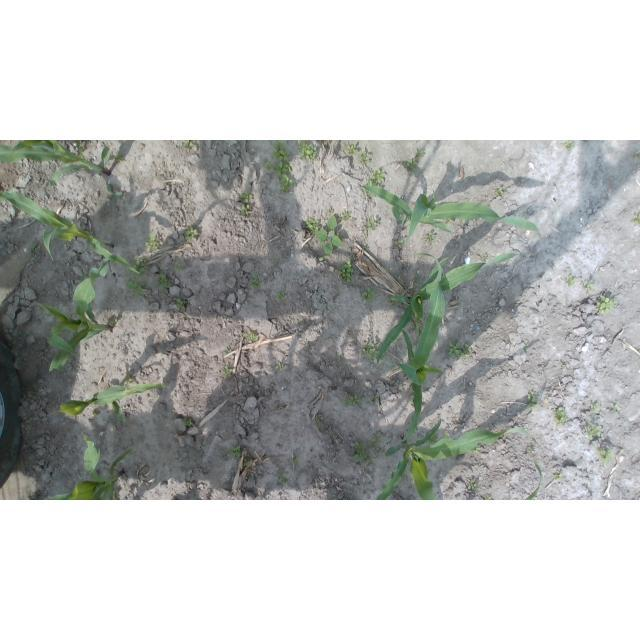Maize: (376, 252, 520, 363), (372, 419, 544, 500), (0, 190, 140, 273), (352, 185, 541, 246), (386, 252, 446, 444), (35, 258, 112, 371), (0, 140, 112, 190), (47, 435, 133, 500), (60, 382, 166, 422), (509, 456, 543, 501)
Weeds: (263, 140, 293, 194), (314, 216, 342, 256), (350, 434, 383, 463), (129, 256, 150, 280), (448, 341, 472, 359), (299, 140, 318, 162), (595, 296, 617, 314), (125, 280, 147, 298), (339, 260, 355, 283), (406, 148, 424, 168), (553, 407, 570, 428), (155, 273, 172, 292), (366, 169, 386, 185), (586, 422, 603, 440), (106, 184, 123, 202), (362, 341, 379, 359), (597, 448, 614, 464), (144, 234, 160, 251), (184, 226, 199, 242), (526, 391, 539, 409), (343, 395, 362, 407), (363, 219, 378, 234), (584, 280, 597, 295), (358, 150, 371, 165), (362, 288, 375, 302), (240, 191, 254, 204), (306, 217, 318, 231), (422, 232, 436, 244), (561, 141, 576, 152), (221, 366, 233, 379), (176, 298, 187, 312), (249, 276, 259, 291), (29, 243, 39, 258), (566, 275, 577, 287), (231, 446, 242, 458), (113, 153, 124, 164), (428, 432, 438, 444), (590, 403, 600, 415), (467, 480, 477, 492), (245, 333, 258, 342), (347, 145, 357, 156), (471, 444, 481, 455), (241, 204, 250, 216), (181, 141, 193, 150), (631, 213, 640, 224), (124, 375, 133, 386), (277, 474, 288, 483), (290, 455, 299, 466), (341, 211, 351, 220), (553, 471, 563, 480), (184, 417, 193, 427), (278, 292, 287, 301), (395, 240, 404, 249), (387, 298, 395, 308), (276, 362, 284, 372), (174, 262, 183, 270), (370, 396, 379, 404), (314, 420, 322, 429), (363, 189, 373, 196), (496, 187, 504, 195), (110, 318, 118, 326), (413, 274, 420, 282), (447, 217, 455, 223), (443, 430, 449, 438), (272, 259, 279, 265), (316, 258, 324, 263), (560, 363, 566, 369), (528, 446, 534, 452), (338, 355, 344, 361), (299, 319, 305, 325), (92, 409, 98, 415), (327, 209, 334, 214), (614, 404, 619, 411), (485, 495, 492, 500), (224, 348, 229, 355), (524, 344, 529, 349), (547, 392, 552, 397), (197, 292, 202, 297), (305, 345, 310, 350), (244, 462, 249, 467), (115, 489, 120, 494), (484, 254, 488, 260), (362, 246, 368, 250), (566, 334, 572, 338), (323, 141, 327, 146), (586, 141, 590, 142)
